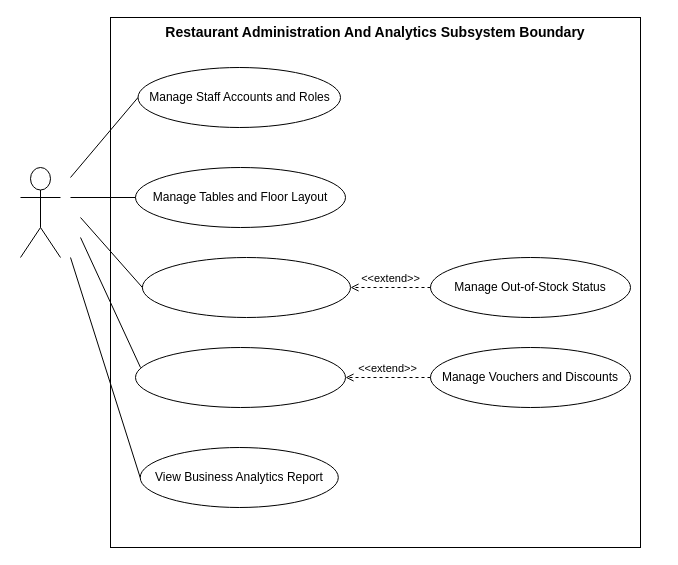
Image size: 678x565. Some labels were removed from this diagram. The centre of each missing label's shape, as x and y in pixels:
"Configure Restaurant Profile" goes at pixel 240 377.
"Manage Categories and Items" goes at pixel 245 287.
"Manager" goes at pixel 40 212.
